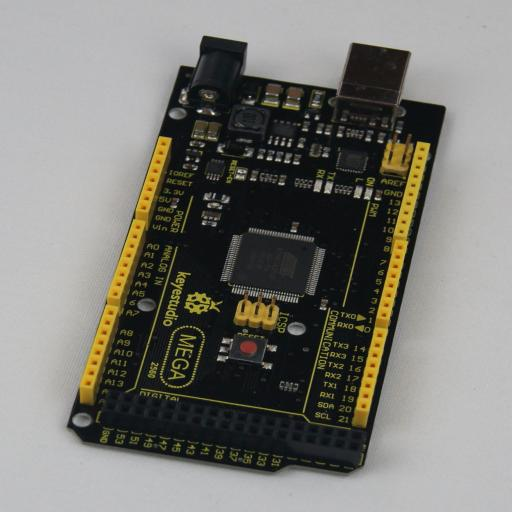Arduino Mega 2560 -Black and Yellow-: (67, 36, 446, 476)
